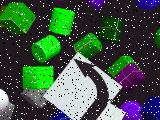Left: (43, 52, 123, 120)
